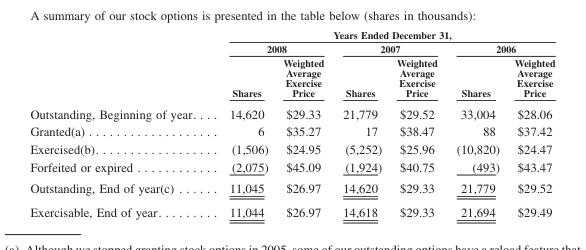table: (29, 28, 554, 218)
table column: (29, 28, 212, 218), (212, 28, 275, 218), (446, 28, 506, 218), (388, 28, 446, 218), (275, 28, 332, 218), (332, 28, 388, 218), (506, 28, 554, 218)
table column header: (29, 28, 554, 102)
table row: (29, 55, 554, 102), (29, 177, 554, 199), (29, 102, 554, 122), (29, 157, 554, 177), (29, 199, 554, 218), (29, 139, 554, 157), (29, 122, 554, 139), (29, 41, 554, 55), (29, 28, 554, 41)
table spanning cell: (212, 28, 554, 41), (212, 41, 332, 55), (332, 41, 446, 55), (446, 41, 554, 55)
